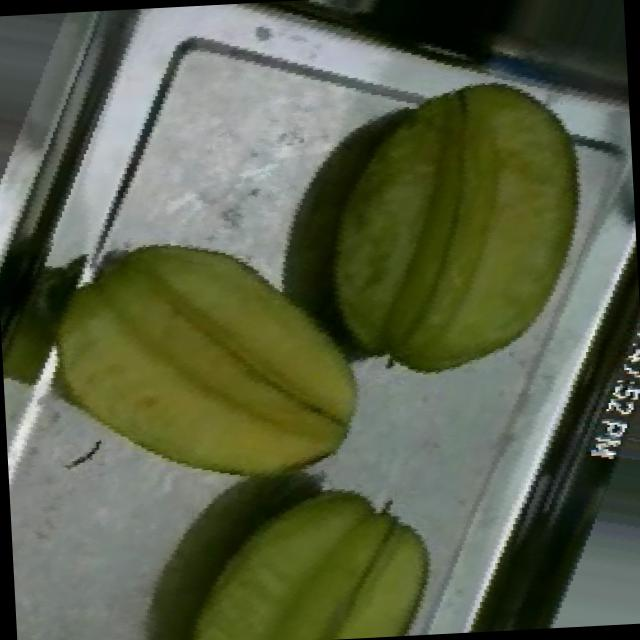fruit: (269, 52, 632, 456), (9, 194, 413, 552), (123, 441, 461, 640)
